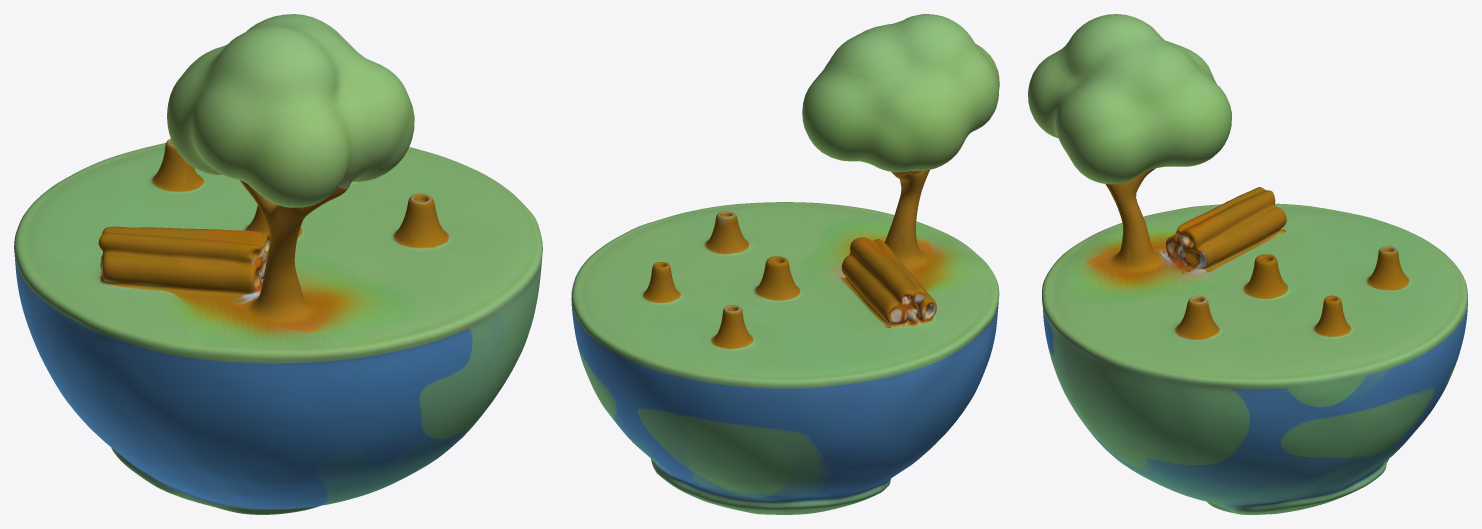
Rendered from Desforestation2.glb.
The picture shows the model from 3 angles, left to right: view 1: azimuth 30°, elevation 25°; view 2: azimuth 150°, elevation 25°; view 3: azimuth 270°, elevation 25°; orthographic projection. The views are drawn at different scales.
Parts seen in each view (by area): view 1: tripo_node_40a5621b-e1cd-4d79-acff-d651f8a41af7; view 2: tripo_node_40a5621b-e1cd-4d79-acff-d651f8a41af7; view 3: tripo_node_40a5621b-e1cd-4d79-acff-d651f8a41af7.
Boxes of the visible parts, bbox=[...] form: tripo_node_40a5621b-e1cd-4d79-acff-d651f8a41af7: bbox=[14, 14, 542, 514]; tripo_node_40a5621b-e1cd-4d79-acff-d651f8a41af7: bbox=[571, 14, 999, 514]; tripo_node_40a5621b-e1cd-4d79-acff-d651f8a41af7: bbox=[1028, 14, 1467, 514].
Size of the model in its own units: 0.8289 by 0.9486 by 0.8589.
1 material, 1 textured.
